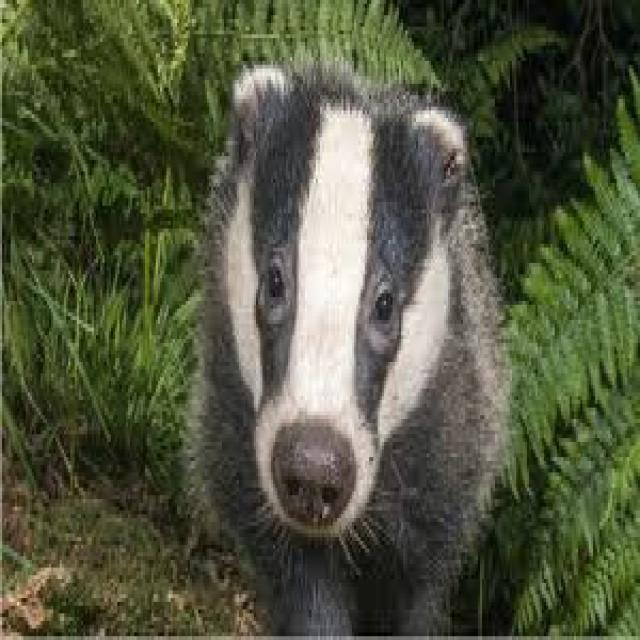badger: (194, 65, 508, 629)
